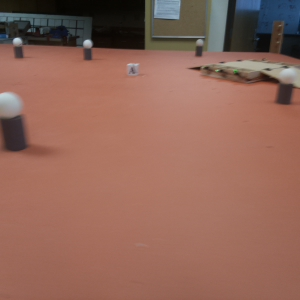obstacle: (1, 89, 30, 156), (278, 69, 297, 106), (12, 36, 26, 60), (81, 41, 95, 64), (195, 39, 203, 57)
side: (202, 64, 246, 82)
